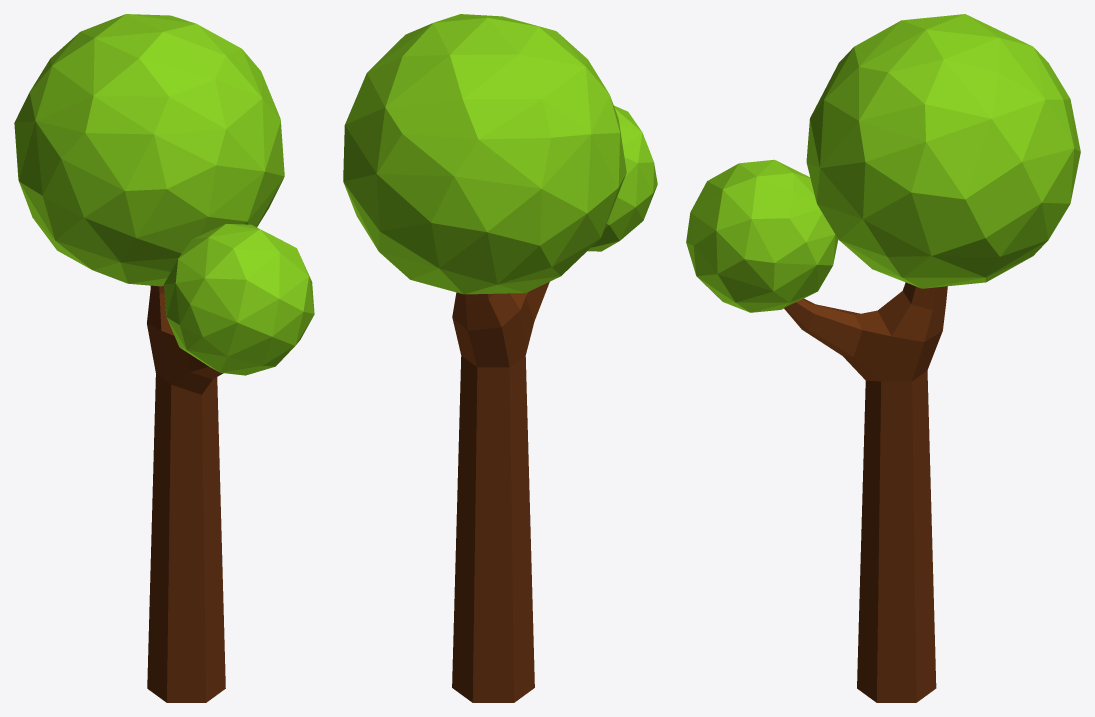
The model's file is tree.glb.
The picture shows the model from 3 angles, left to right: view 1: azimuth 30°, elevation 25°; view 2: azimuth 150°, elevation 25°; view 3: azimuth 270°, elevation 25°; orthographic projection. The views are drawn at different scales.
Parts seen in each view (by area): view 1: Icosphere_Icosphere.002, Cylinder.014, Icosphere.001_Icosphere.003; view 2: Icosphere_Icosphere.002, Cylinder.014, Icosphere.001_Icosphere.003; view 3: Icosphere_Icosphere.002, Cylinder.014, Icosphere.001_Icosphere.003.
Boxes of the visible parts, bbox=[...] form: Icosphere_Icosphere.002: bbox=[14, 14, 284, 286]; Cylinder.014: bbox=[147, 285, 225, 702]; Icosphere.001_Icosphere.003: bbox=[164, 223, 314, 375]; Icosphere_Icosphere.002: bbox=[343, 14, 626, 294]; Cylinder.014: bbox=[452, 281, 549, 702]; Icosphere.001_Icosphere.003: bbox=[587, 105, 657, 251]; Icosphere_Icosphere.002: bbox=[806, 14, 1080, 288]; Cylinder.014: bbox=[784, 282, 947, 702]; Icosphere.001_Icosphere.003: bbox=[686, 159, 838, 312].
Bounding box in the file's own units: 1.82 × 4.79 × 2.62.
